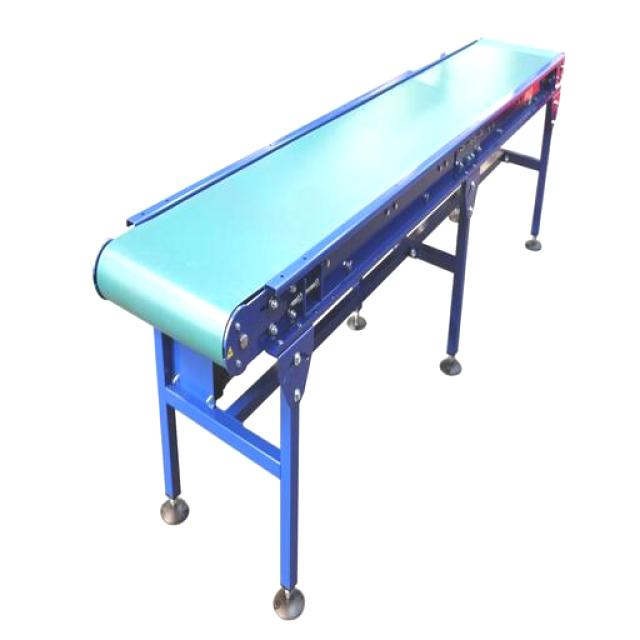conveyor: (91, 37, 569, 373)
